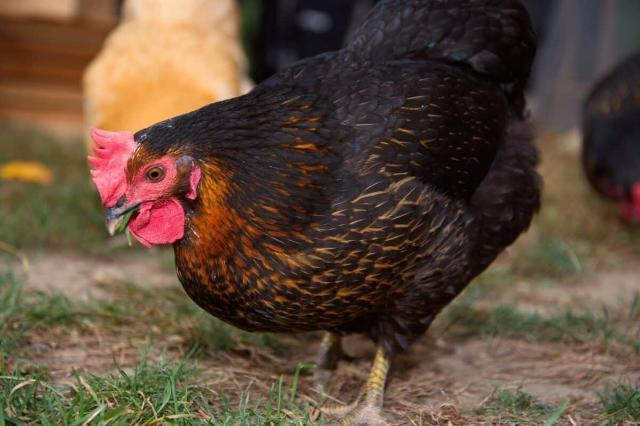Chicken: (86, 1, 545, 426)
